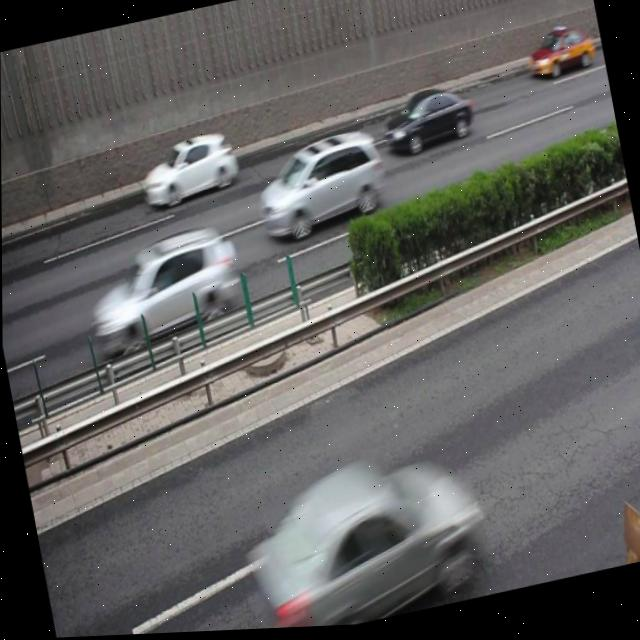car: (231, 440, 488, 632), (77, 220, 248, 357), (134, 126, 242, 213), (377, 81, 476, 165), (518, 24, 597, 89)
truck: (248, 125, 391, 249)
